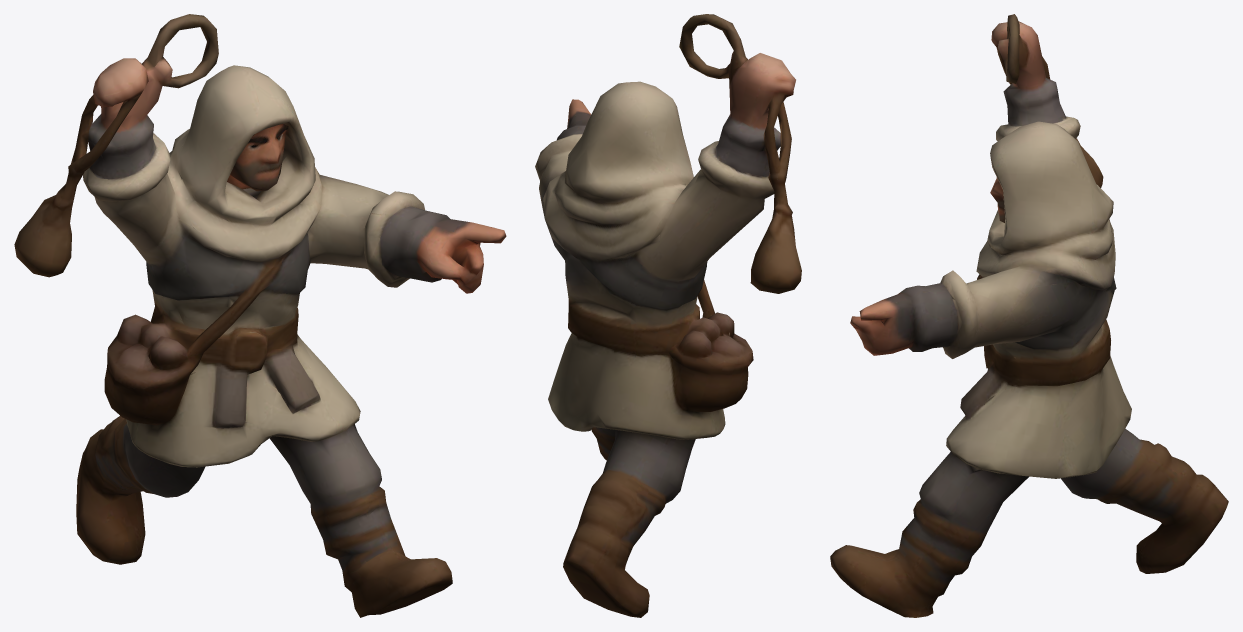
Rendered from hill_slingers_strike.glb.
The picture shows the model from 3 angles, left to right: view 1: azimuth 30°, elevation 25°; view 2: azimuth 150°, elevation 25°; view 3: azimuth 270°, elevation 25°; orthographic projection. The views are drawn at different scales.
Visible parts, largest first — view 1: world; view 2: world; view 3: world.
Part boxes in pixels (x1,y1,x2,y2): world: (14, 14, 506, 617); world: (535, 14, 801, 617); world: (830, 14, 1228, 617).
Bounding box in the file's own units: 0.6374 × 0.9982 × 0.6643.
Materials: 1 (1 with a texture image).
